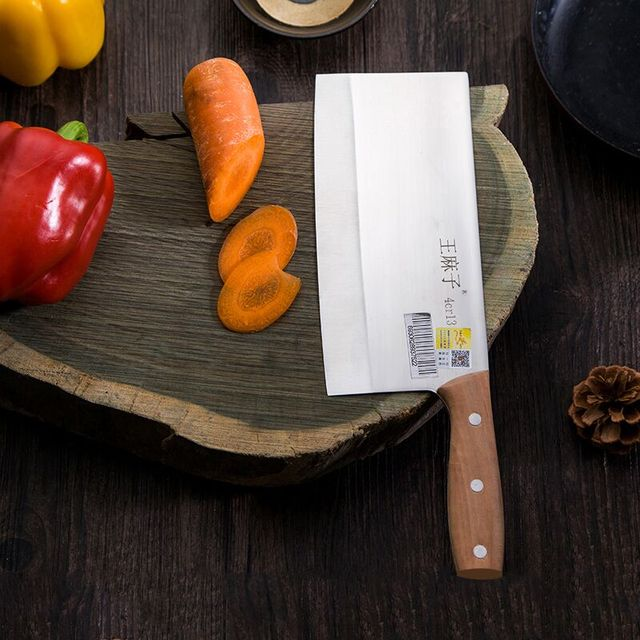knief: (318, 62, 529, 566)
